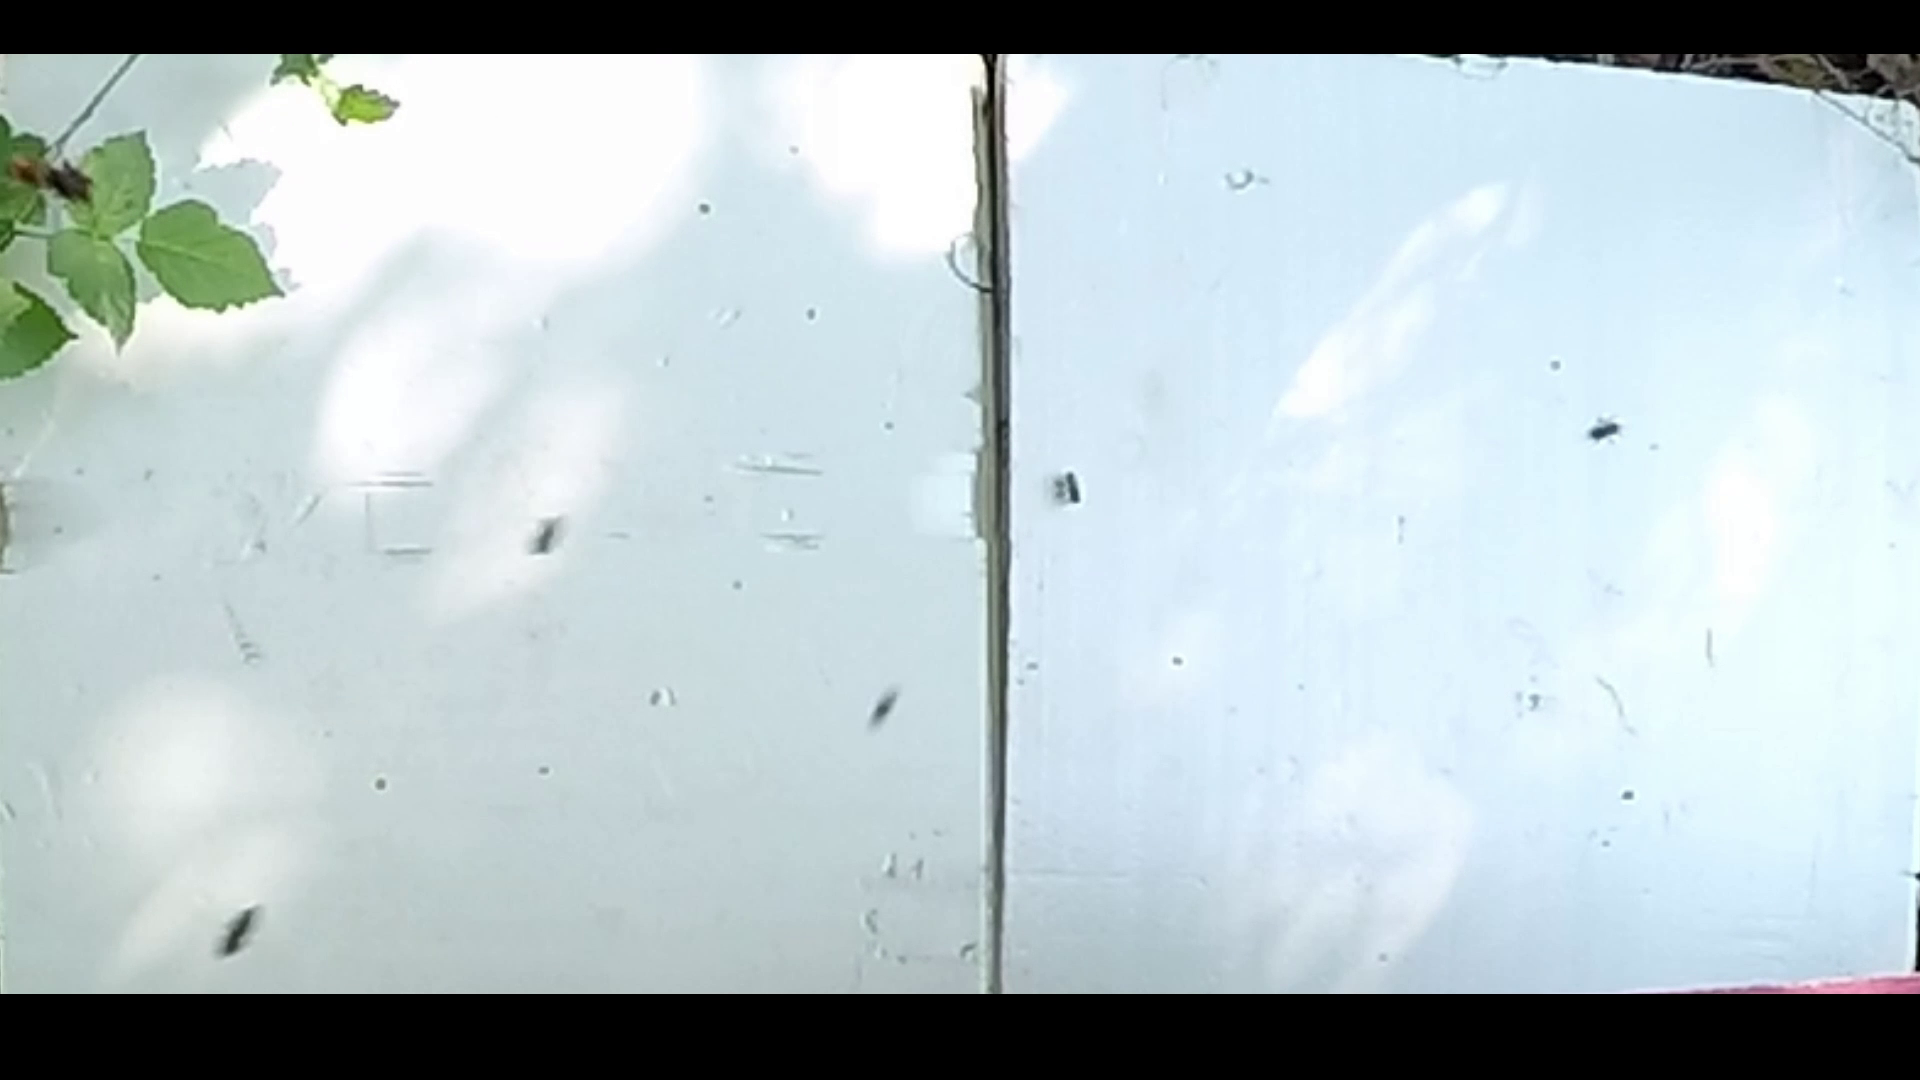Asian_hornets: (0, 121, 119, 235)
